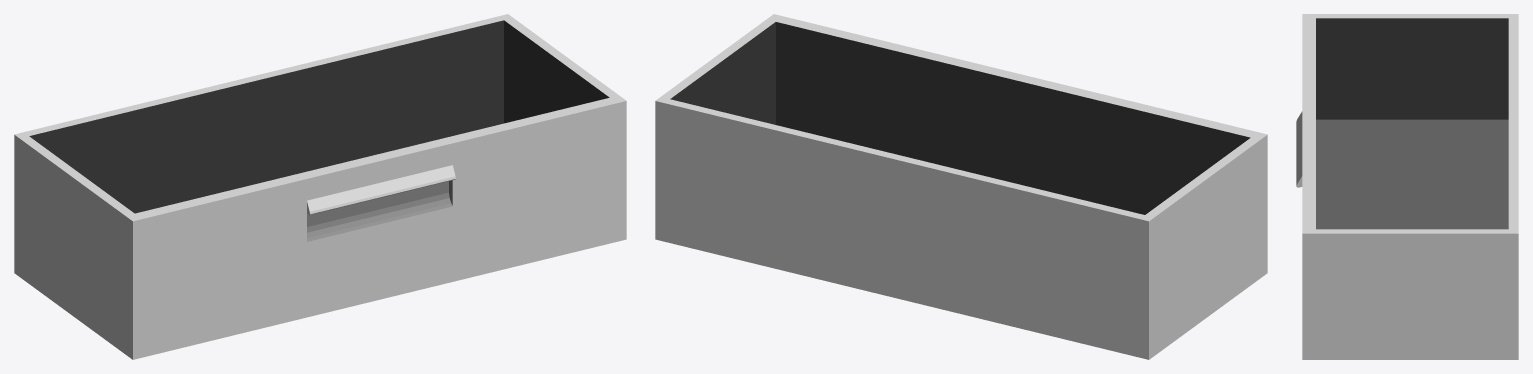
Rendered from desk_drawer_1.glb.
3 renders of one model, left to right at view 1: azimuth 30°, elevation 25°; view 2: azimuth 150°, elevation 25°; view 3: azimuth 270°, elevation 25°, orthographic. The views are drawn at different scales.
Visible parts, largest first — view 1: Desk_Drawer_1; view 2: Desk_Drawer_1; view 3: Desk_Drawer_1.
Part boxes in pixels (left/top/right/bottom): Desk_Drawer_1: left=14, top=14, right=626, bottom=359; Desk_Drawer_1: left=655, top=14, right=1267, bottom=359; Desk_Drawer_1: left=1296, top=14, right=1518, bottom=359.
Size of the model in its own units: 0.8881 by 0.2381 by 0.3796.
Materials: 1 (1 with a texture image).
